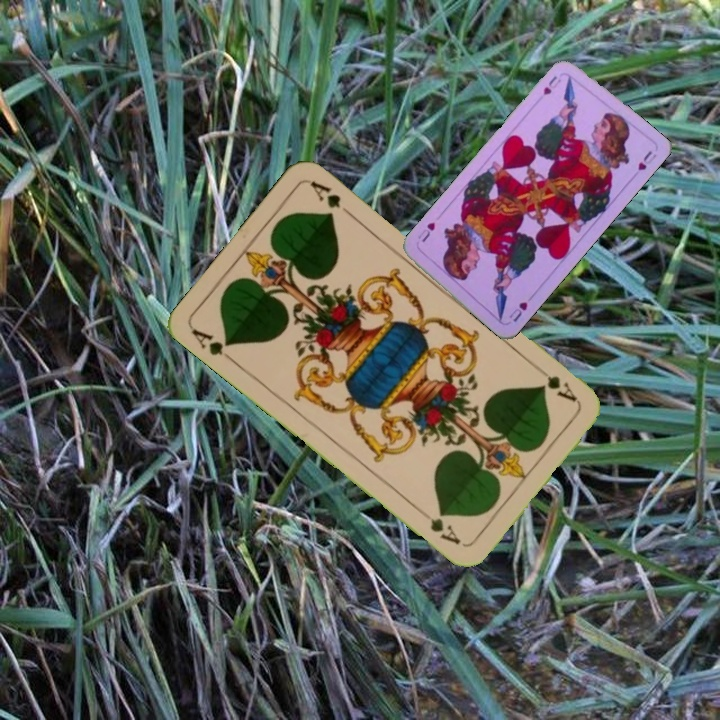GA: (188, 324, 239, 367), (531, 362, 580, 405)
HU: (505, 298, 530, 325), (538, 72, 564, 97)
